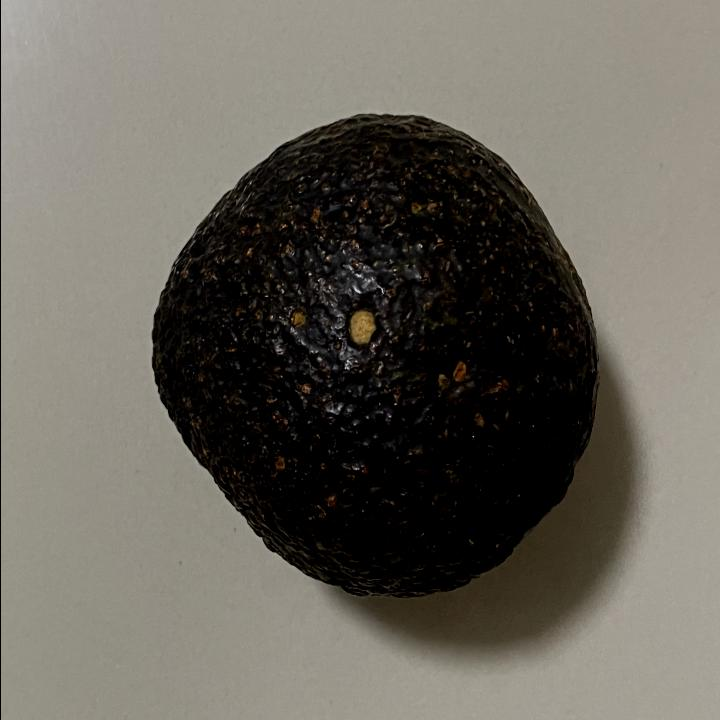Level2: (139, 103, 607, 611)
